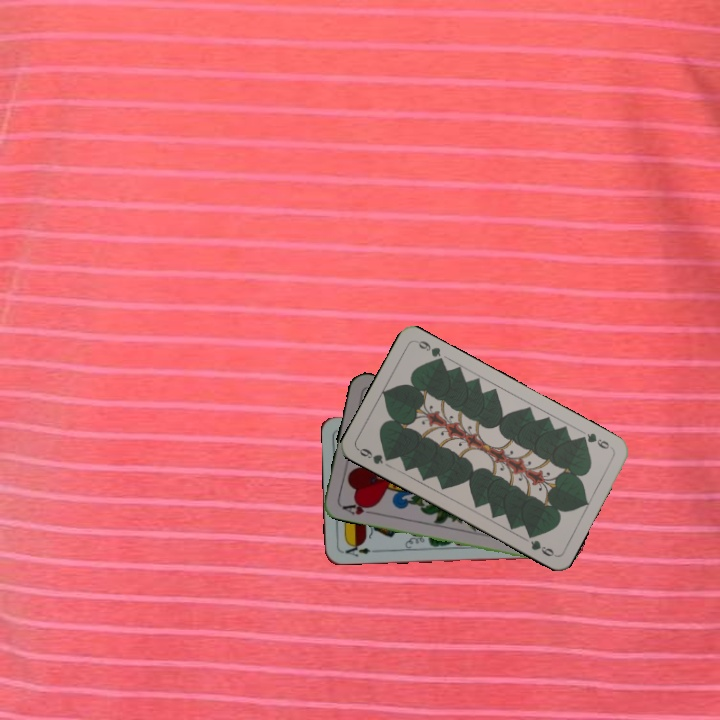EA: (341, 540, 379, 559)
G9: (354, 444, 394, 467), (575, 429, 615, 452)
HA: (338, 498, 378, 518)
